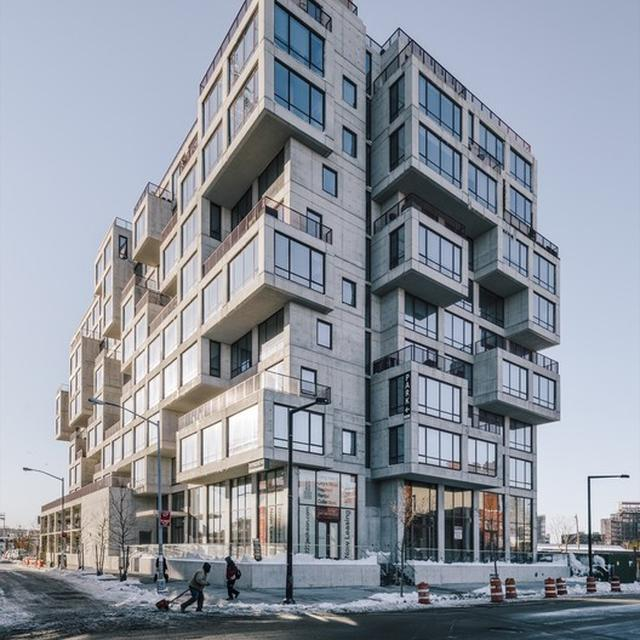building: (55, 0, 563, 580)
